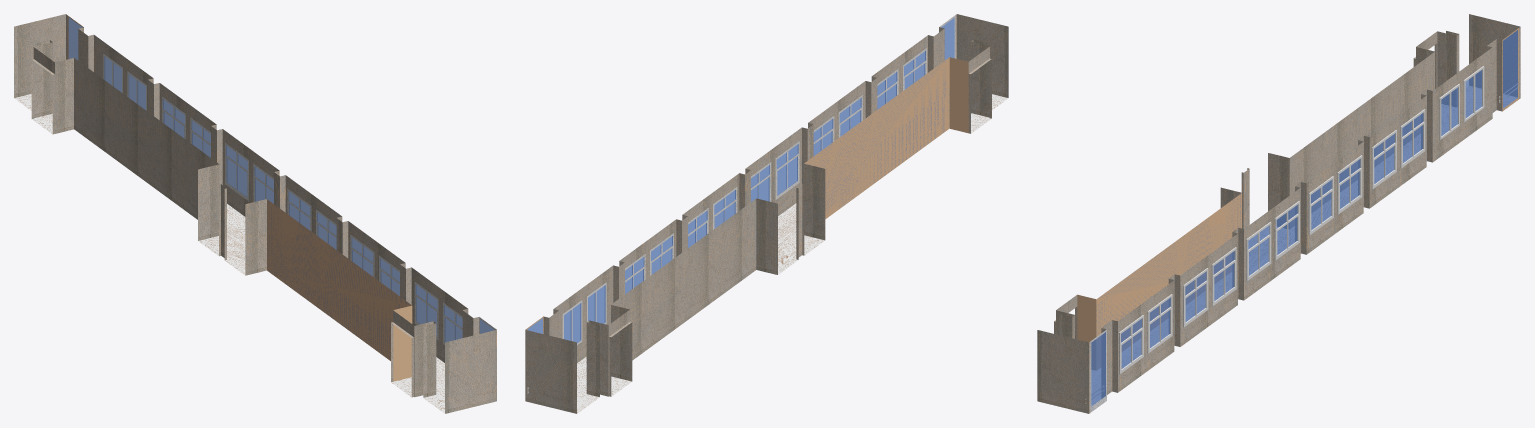
File: COM022.obj
3 views of the same model, side by side, from view 1: azimuth 30°, elevation 25°; view 2: azimuth 150°, elevation 25°; view 3: azimuth 330°, elevation 25° (orthographic).
Visible parts, largest first — view 1: Mesh91 COM022 Model, Mesh59 ventana1_3_7 COM022 Model, Mesh75 ventana1_3_9 COM022 Model, Mesh51 ventana1_3_6 COM022 Model, Mesh27 ventana1_3_3 COM022 Model, Mesh83 ventana1_3_10 COM022 Model, Mesh67 ventana1_3_8 COM022 Model, Mesh1 ventana1_3_1 COM022 Model, Mesh9 ventana1_3_2 COM022 Model, Mesh35 ventana1_3_4 COM022 Model, Mesh43 ventana1_3_5 COM022 Model, Mesh22 v2_2 COM022 Model (+1 smaller); view 2: Mesh91 COM022 Model, Mesh43 ventana1_3_5 COM022 Model, Mesh22 v2_2 COM022 Model, Mesh17 v2_1 COM022 Model, Mesh27 ventana1_3_3 COM022 Model, Mesh35 ventana1_3_4 COM022 Model, Mesh83 ventana1_3_10 COM022 Model, Mesh9 ventana1_3_2 COM022 Model, Mesh67 ventana1_3_8 COM022 Model, Mesh75 ventana1_3_9 COM022 Model, Mesh51 ventana1_3_6 COM022 Model, Mesh1 ventana1_3_1 COM022 Model (+1 smaller); view 3: Mesh91 COM022 Model, Mesh1 ventana1_3_1 COM022 Model, Mesh35 ventana1_3_4 COM022 Model, Mesh43 ventana1_3_5 COM022 Model, Mesh59 ventana1_3_7 COM022 Model, Mesh75 ventana1_3_9 COM022 Model, Mesh27 ventana1_3_3 COM022 Model, Mesh83 ventana1_3_10 COM022 Model, Mesh51 ventana1_3_6 COM022 Model, Mesh67 ventana1_3_8 COM022 Model, Mesh9 ventana1_3_2 COM022 Model, Mesh22 v2_2 COM022 Model (+1 smaller).
Boxes of the visible parts, x1,y1,x2,y2 form: Mesh91 COM022 Model: [14, 14, 496, 413]; Mesh59 ventana1_3_7 COM022 Model: [225, 143, 248, 201]; Mesh75 ventana1_3_9 COM022 Model: [414, 282, 438, 340]; Mesh51 ventana1_3_6 COM022 Model: [350, 234, 374, 277]; Mesh27 ventana1_3_3 COM022 Model: [287, 188, 311, 231]; Mesh83 ventana1_3_10 COM022 Model: [253, 163, 273, 203]; Mesh67 ventana1_3_8 COM022 Model: [443, 302, 462, 344]; Mesh1 ventana1_3_1 COM022 Model: [162, 96, 185, 139]; Mesh9 ventana1_3_2 COM022 Model: [190, 117, 210, 157]; Mesh35 ventana1_3_4 COM022 Model: [379, 255, 399, 295]; Mesh43 ventana1_3_5 COM022 Model: [316, 209, 336, 249]; Mesh22 v2_2 COM022 Model: [103, 53, 122, 93]; Mesh91 COM022 Model: [525, 14, 1008, 413]; Mesh43 ventana1_3_5 COM022 Model: [775, 141, 799, 199]; Mesh22 v2_2 COM022 Model: [562, 300, 582, 345]; Mesh17 v2_1 COM022 Model: [587, 282, 606, 324]; Mesh27 ventana1_3_3 COM022 Model: [751, 162, 771, 201]; Mesh35 ventana1_3_4 COM022 Model: [838, 95, 862, 137]; Mesh83 ventana1_3_10 COM022 Model: [713, 187, 737, 229]; Mesh9 ventana1_3_2 COM022 Model: [650, 233, 673, 275]; Mesh67 ventana1_3_8 COM022 Model: [903, 48, 926, 90]; Mesh75 ventana1_3_9 COM022 Model: [877, 69, 898, 109]; Mesh51 ventana1_3_6 COM022 Model: [813, 116, 834, 155]; Mesh1 ventana1_3_1 COM022 Model: [625, 254, 645, 293]; Mesh91 COM022 Model: [1037, 14, 1520, 413]; Mesh1 ventana1_3_1 COM022 Model: [1400, 109, 1425, 168]; Mesh35 ventana1_3_4 COM022 Model: [1183, 268, 1208, 327]; Mesh43 ventana1_3_5 COM022 Model: [1246, 222, 1271, 281]; Mesh59 ventana1_3_7 COM022 Model: [1337, 155, 1362, 214]; Mesh75 ventana1_3_9 COM022 Model: [1147, 294, 1172, 353]; Mesh27 ventana1_3_3 COM022 Model: [1274, 201, 1299, 260]; Mesh83 ventana1_3_10 COM022 Model: [1308, 176, 1333, 235]; Mesh51 ventana1_3_6 COM022 Model: [1211, 247, 1236, 306]; Mesh67 ventana1_3_8 COM022 Model: [1119, 315, 1143, 374]; Mesh9 ventana1_3_2 COM022 Model: [1372, 130, 1396, 189]; Mesh22 v2_2 COM022 Model: [1463, 66, 1484, 122].
Bounding box in the file's own units: 3.23 × 3.6 × 39.37.
7 materials, 2 textured.
